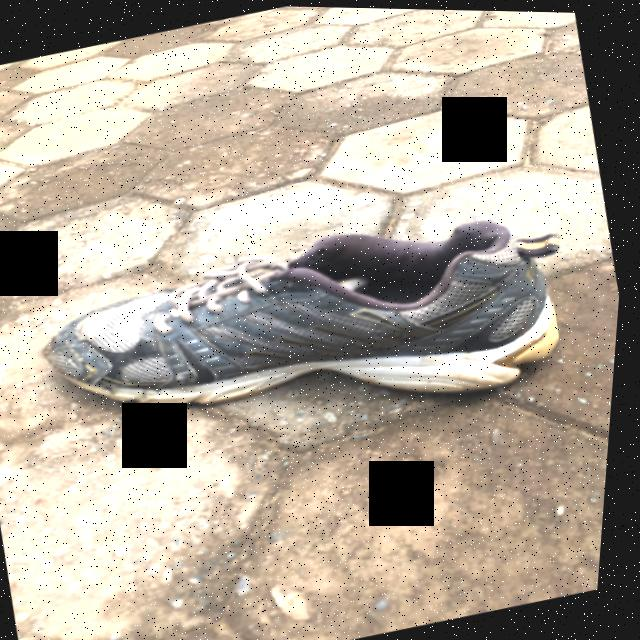shoe: (20, 177, 582, 491)
